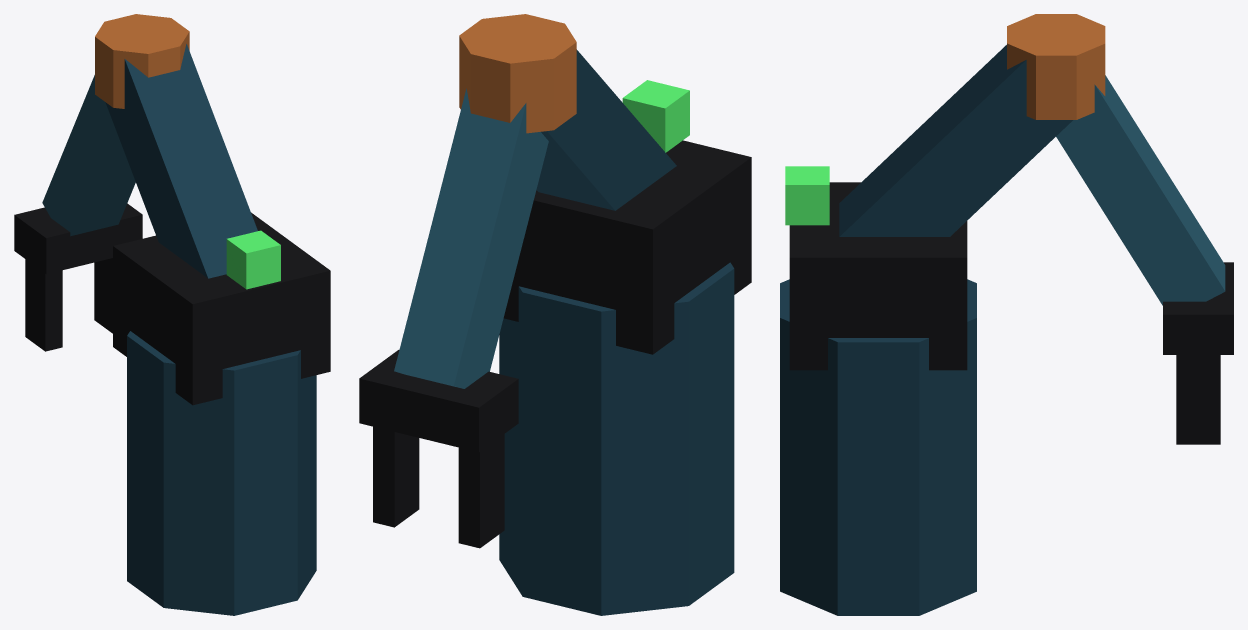
Rendered from robotic_arm_turret.obj.
The picture shows the model from 3 angles, left to right: view 1: azimuth 30°, elevation 25°; view 2: azimuth 150°, elevation 25°; view 3: azimuth 270°, elevation 25°; orthographic projection. The views are drawn at different scales.
Parts seen in each view (by area): view 1: Body; view 2: Body; view 3: Body.
Boxes of the visible parts, left/top/right/bottom form: Body: left=14, top=14, right=330, bottom=615; Body: left=359, top=14, right=751, bottom=615; Body: left=780, top=14, right=1233, bottom=615.
Bounding box in the file's own units: 0.2218 × 0.67 × 0.5109.
